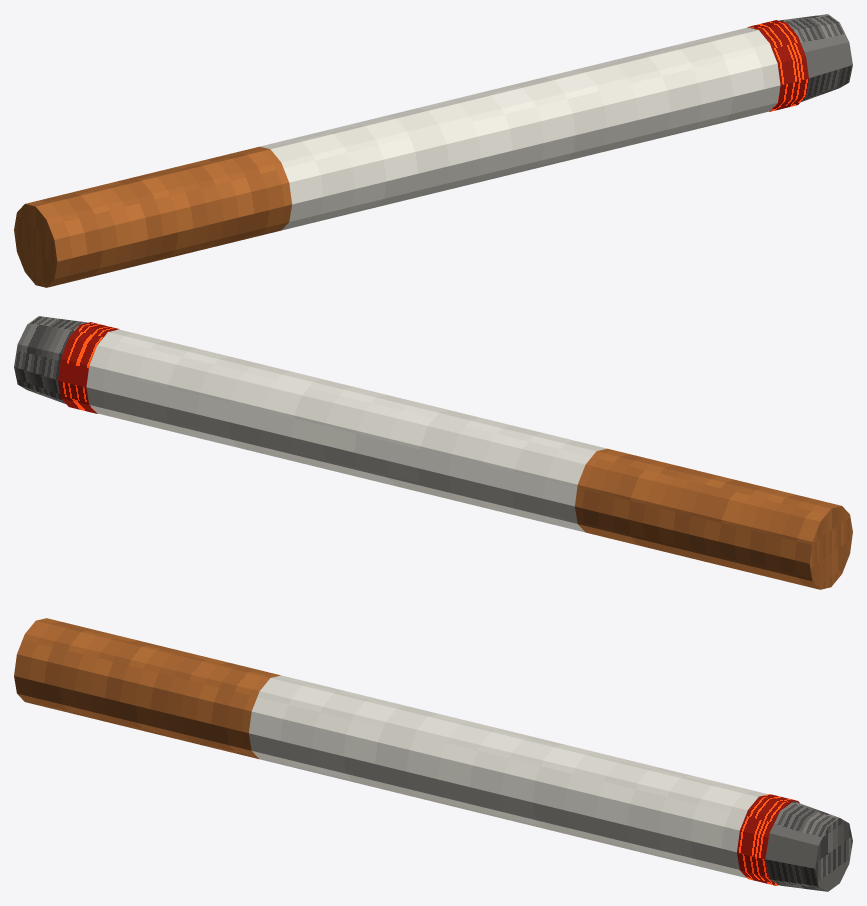
The model's file is cigarette.glb.
3 renders of one model, top to bottom at view 1: azimuth 30°, elevation 25°; view 2: azimuth 150°, elevation 25°; view 3: azimuth 330°, elevation 25°, orthographic.
Parts seen in each view (by area): view 1: Paper, Filter, Ash, Ember; view 2: Paper, Filter, Ash, Ember; view 3: Paper, Filter, Ash, Ember.
Boxes of the visible parts, box(x1,y1,x2,y2) form: Paper: box(260, 27, 780, 230); Filter: box(14, 146, 291, 287); Ash: box(779, 14, 852, 101); Ember: box(747, 20, 808, 111); Paper: box(86, 329, 606, 532); Filter: box(575, 448, 852, 589); Ash: box(14, 316, 87, 403); Ember: box(58, 322, 119, 413); Paper: box(249, 675, 767, 877); Filter: box(14, 618, 280, 758); Ash: box(765, 801, 852, 891); Ember: box(737, 794, 799, 885).
Size of the model in its own units: 0.085 by 0.0081 by 0.0081.
4 materials, 4 textured.
